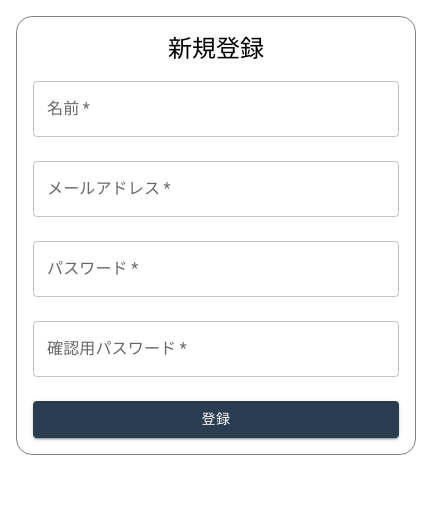
Scenario: 失敗する場合 › パスワードが未入力の場合、エラーが表示される
In the field labelled "名前": (216, 109) [33, 81, 399, 137], type "Ares"
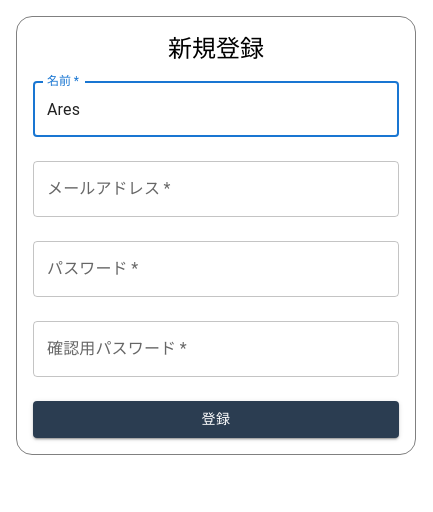
In the field labelled "メールアドレス": (216, 189) [33, 161, 399, 217], type "taro@example.com"
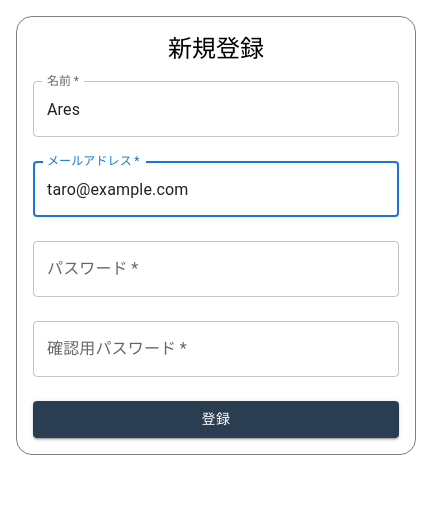
In the password field with placeholder "パスワードを再入力してください": (216, 349) [33, 321, 399, 377], type "111111"
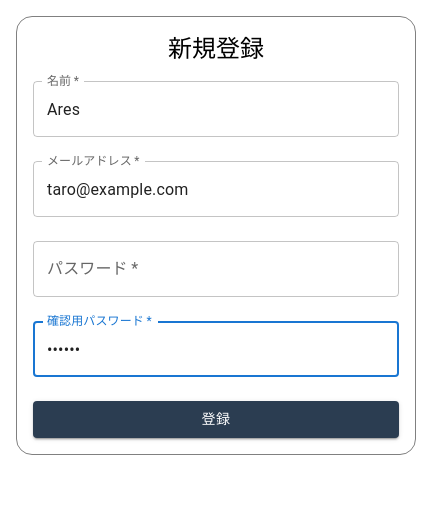
Click the button "登録": (216, 419) [33, 401, 399, 438]
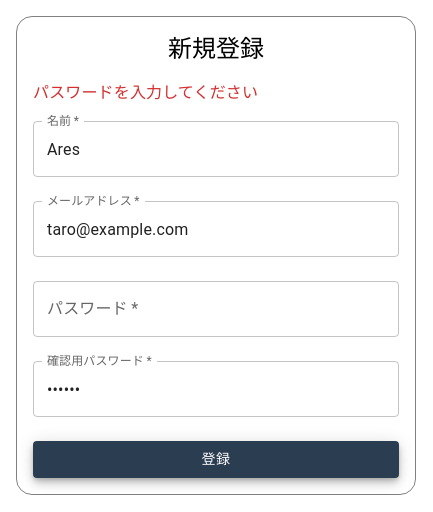
Expected: the text "パスワードを入力してください" is shown, [33, 83, 258, 102]
